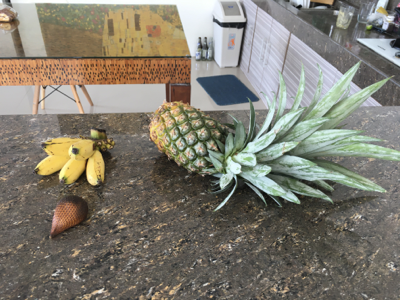banana: (33, 130, 113, 187)
pineapple: (151, 61, 398, 211)
snake fruit: (50, 196, 89, 237)
